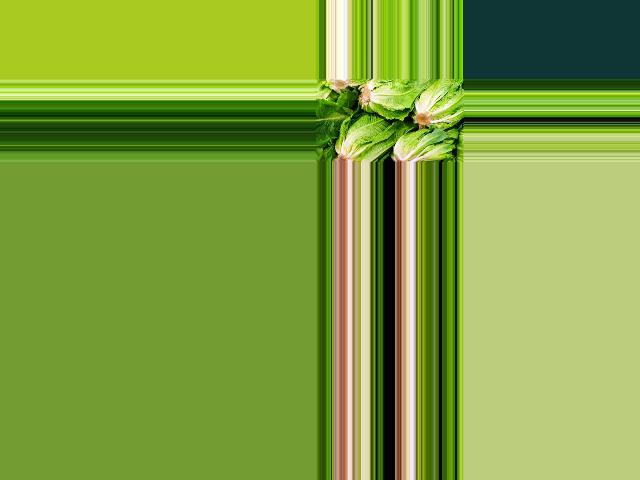lettuce: (314, 99, 349, 133)
